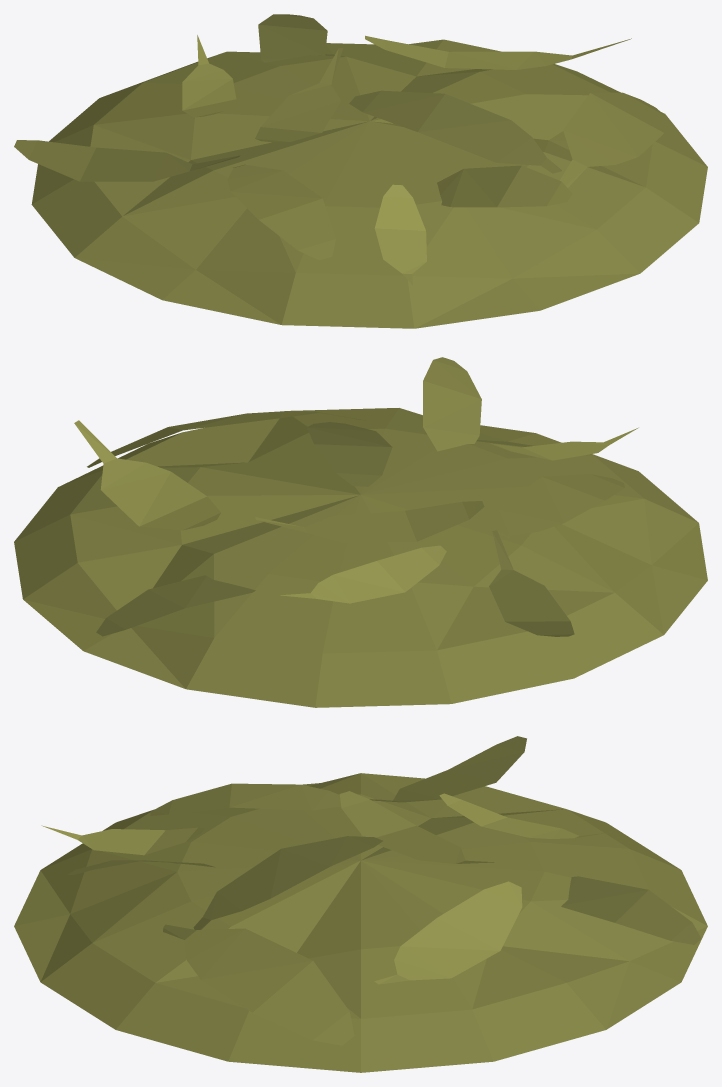
File: SFHW_Leaves_004.fbx
The picture shows the model from 3 angles, top to bottom: view 1: azimuth 30°, elevation 25°; view 2: azimuth 150°, elevation 25°; view 3: azimuth 270°, elevation 25°; orthographic projection. The views are drawn at different scales.
Parts seen in each view (by area): view 1: SFHW_Leaves_004; view 2: SFHW_Leaves_004; view 3: SFHW_Leaves_004.
Boxes of the visible parts, x1,y1,x2,y2 form: SFHW_Leaves_004: (14, 14, 707, 328); SFHW_Leaves_004: (14, 357, 707, 707); SFHW_Leaves_004: (14, 736, 707, 1072).
Size of the model in its own units: 26.89 by 3.84 by 26.89.
